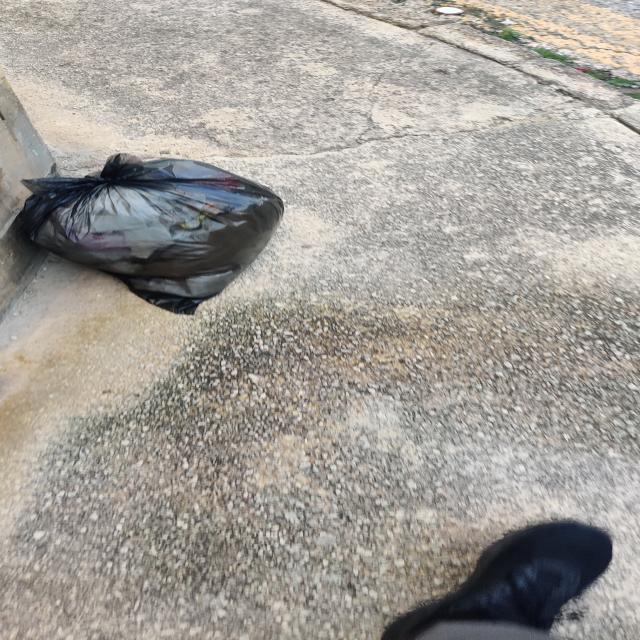Mixed Waste -Black Bags-: (14, 154, 284, 320)
